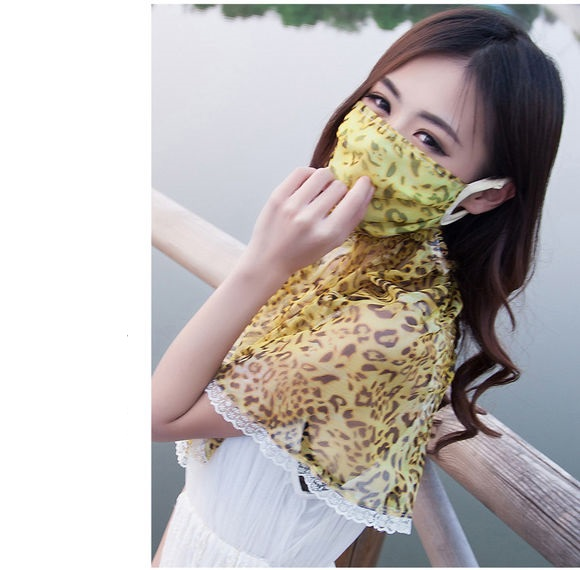face_mask: (329, 53, 464, 238)
